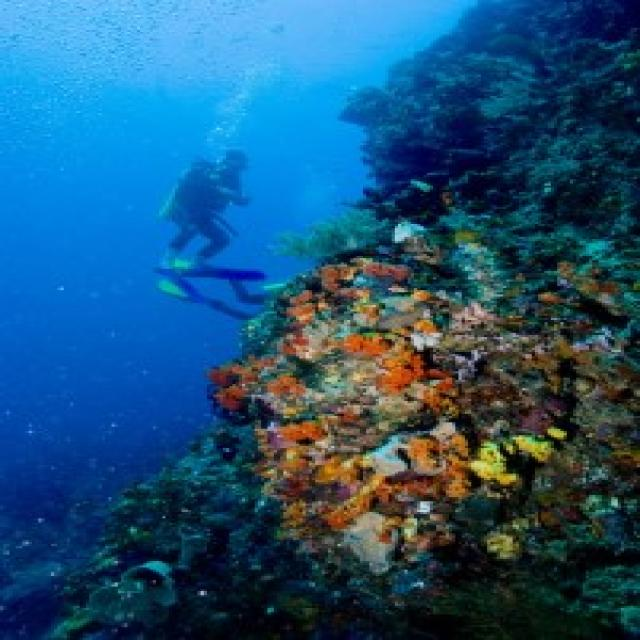Healthy: (211, 227, 638, 571)
